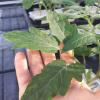Tomato mold leaf: (21, 58, 86, 99), (0, 25, 62, 52), (60, 30, 96, 56)
